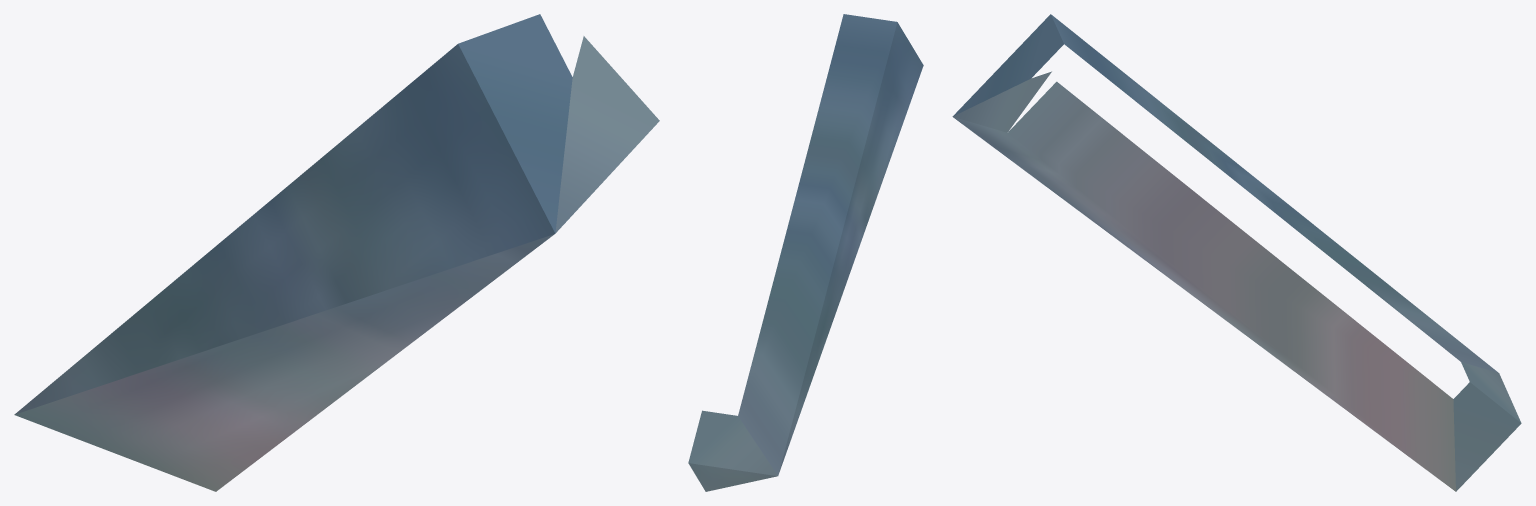
File: AJVsH2wUWXvgEpYUe-KbGJwwkdJLCCPTBVDZJDkjDob9e_ETPAvD1cYFGKRRtLILvwTdBX1yM4jDFUWX8wKtRW8Ep7y100vB46biiZGSDMv-LvnHYrISxdXS_odqmqtDLu3nr896huVH4rORzvTVBZyZE_Sou-Rjyw.glb
3 renders of one model, left to right at view 1: azimuth 30°, elevation 25°; view 2: azimuth 150°, elevation 25°; view 3: azimuth 270°, elevation 25°, orthographic. The views are drawn at different scales.
Size of the model in its own units: 10.96 by 25.76 by 29.01.
1 material, 1 textured.
